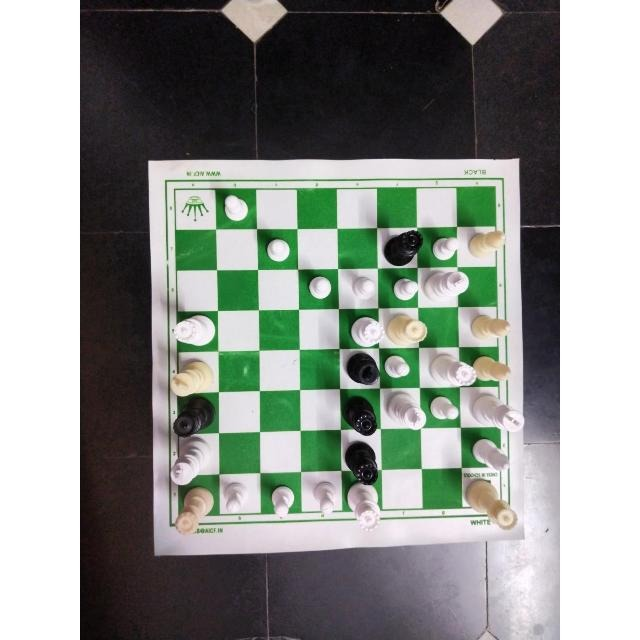black-king: (344, 350, 383, 387)
black-queen: (338, 439, 383, 489), (166, 397, 218, 436), (340, 392, 379, 443), (376, 227, 423, 266)
white-bishop: (464, 308, 519, 343), (474, 349, 520, 385), (468, 436, 514, 471), (463, 229, 511, 261)
white-king: (470, 391, 528, 437), (166, 358, 221, 393), (421, 266, 473, 302), (171, 446, 214, 488), (382, 393, 425, 435)
white-pawn: (307, 479, 341, 522), (268, 483, 301, 521), (221, 477, 251, 517), (263, 231, 295, 264), (428, 391, 460, 423), (385, 352, 417, 384), (387, 276, 422, 304), (222, 187, 250, 221), (348, 270, 376, 304), (307, 270, 332, 302), (429, 232, 457, 260)
white-queen: (468, 477, 520, 531), (170, 490, 214, 540), (347, 480, 387, 532), (429, 348, 477, 387), (170, 311, 218, 348), (385, 311, 427, 346), (343, 318, 379, 344)
